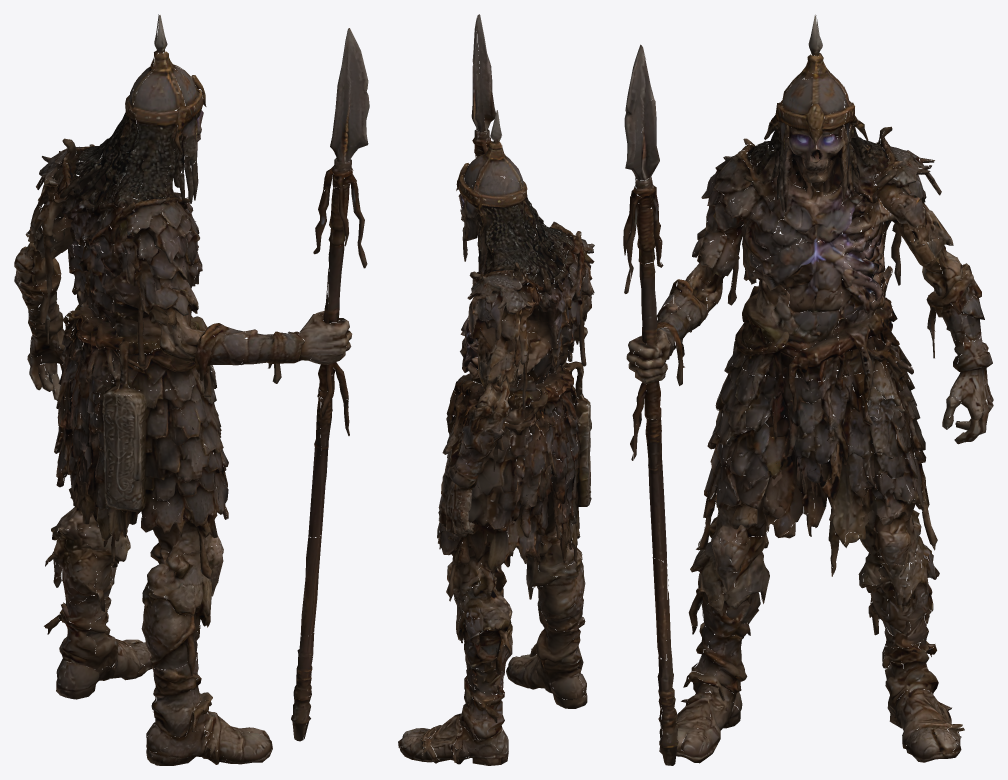
Rendered from RisenTrooper-tripo.glb.
3 renders of one model, left to right at view 1: azimuth 30°, elevation 25°; view 2: azimuth 150°, elevation 25°; view 3: azimuth 270°, elevation 25°, orthographic. The views are drawn at different scales.
Parts seen in each view (by area): view 1: tripo_node_45529c22-760b-4cbf-8deb-da6e5dc4304c; view 2: tripo_node_45529c22-760b-4cbf-8deb-da6e5dc4304c; view 3: tripo_node_45529c22-760b-4cbf-8deb-da6e5dc4304c.
Boxes of the visible parts, x1,y1,x2,y2 form: tripo_node_45529c22-760b-4cbf-8deb-da6e5dc4304c: (14, 14, 369, 765); tripo_node_45529c22-760b-4cbf-8deb-da6e5dc4304c: (398, 14, 594, 765); tripo_node_45529c22-760b-4cbf-8deb-da6e5dc4304c: (623, 14, 993, 765).
Size of the model in its own units: 0.2944 by 0.9996 by 0.4468.
Materials: 1 (1 with a texture image).
